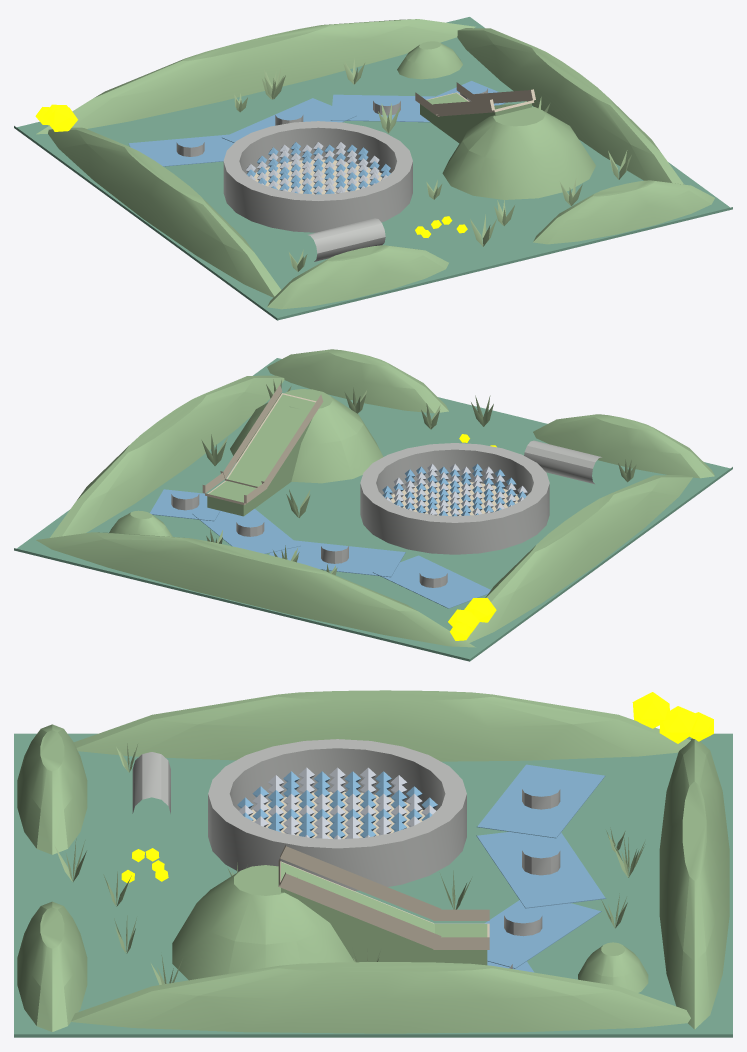
3 views of the same model, one above another, from view 1: azimuth 30°, elevation 25°; view 2: azimuth 150°, elevation 25°; view 3: azimuth 270°, elevation 25° (orthographic). The views are drawn at different scales.
Parts seen in each view (by area): view 1: Terrain, Safety_Pad, Pit_Rim, River_Ribbon, Grass_Tufts, Pit_Balls_River, Pit_Balls_White, Stone_Rollers, Mini_Slide, Foliage, Pit_Bed, River_Stones; view 2: Terrain, Safety_Pad, Pit_Rim, River_Ribbon, Pit_Balls_River, Pit_Balls_White, Mini_Slide, Grass_Tufts, Stone_Rollers, Foliage, River_Stones, Pit_Bed; view 3: Terrain, Safety_Pad, Pit_Rim, River_Ribbon, Mini_Slide, Pit_Balls_River, Pit_Balls_White, Foliage, Grass_Tufts, Stone_Rollers, River_Stones, Pit_Bed.
Part boxes in pixels (box(x1,y1,x2,y2)): Terrain: box(36, 19, 714, 309); Safety_Pad: box(14, 17, 732, 320); Pit_Rim: box(223, 121, 412, 232); River_Ribbon: box(128, 81, 505, 166); Grass_Tufts: box(234, 58, 631, 271); Pit_Balls_River: box(246, 142, 390, 194); Pit_Balls_White: box(245, 142, 387, 194); Stone_Rollers: box(307, 218, 385, 261); Mini_Slide: box(415, 82, 535, 116); Foliage: box(35, 104, 467, 237); Pit_Bed: box(254, 159, 382, 194); River_Stones: box(176, 88, 487, 156); Terrain: box(36, 349, 714, 647); Safety_Pad: box(14, 358, 732, 661); Pit_Rim: box(360, 443, 549, 554); River_Ribbon: box(150, 489, 490, 608); Pit_Balls_River: box(382, 464, 526, 516); Pit_Balls_White: box(385, 464, 527, 515); Mini_Slide: box(202, 384, 323, 505); Grass_Tufts: box(201, 379, 636, 575); Stone_Rollers: box(524, 440, 601, 484); Foliage: box(448, 434, 496, 640); River_Stones: box(171, 494, 447, 587); Pit_Bed: box(391, 481, 519, 515); Terrain: box(17, 690, 729, 1033); Safety_Pad: box(14, 733, 732, 1037); Pit_Rim: box(208, 739, 466, 890); River_Ribbon: box(476, 764, 606, 972); Mini_Slide: box(278, 845, 489, 949); Pit_Balls_River: box(237, 771, 437, 838); Pit_Balls_White: box(239, 767, 435, 839); Foliage: box(121, 692, 713, 883); Grass_Tufts: box(55, 743, 645, 984); Stone_Rollers: box(132, 752, 170, 813); River_Stones: box(504, 789, 560, 968); Pit_Bed: box(250, 791, 424, 838).
Size of what is drawn, in the model's own units: 6 by 0.8999 by 6.
9 materials, 1 textured.
